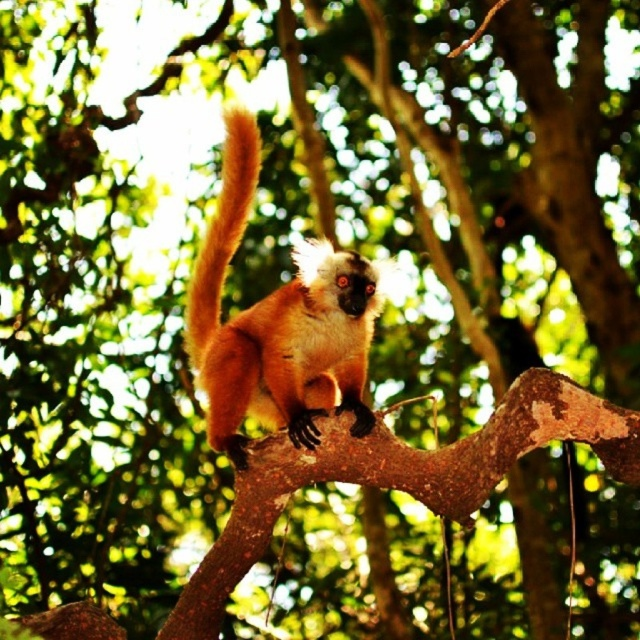Monkey: (181, 63, 378, 468)
